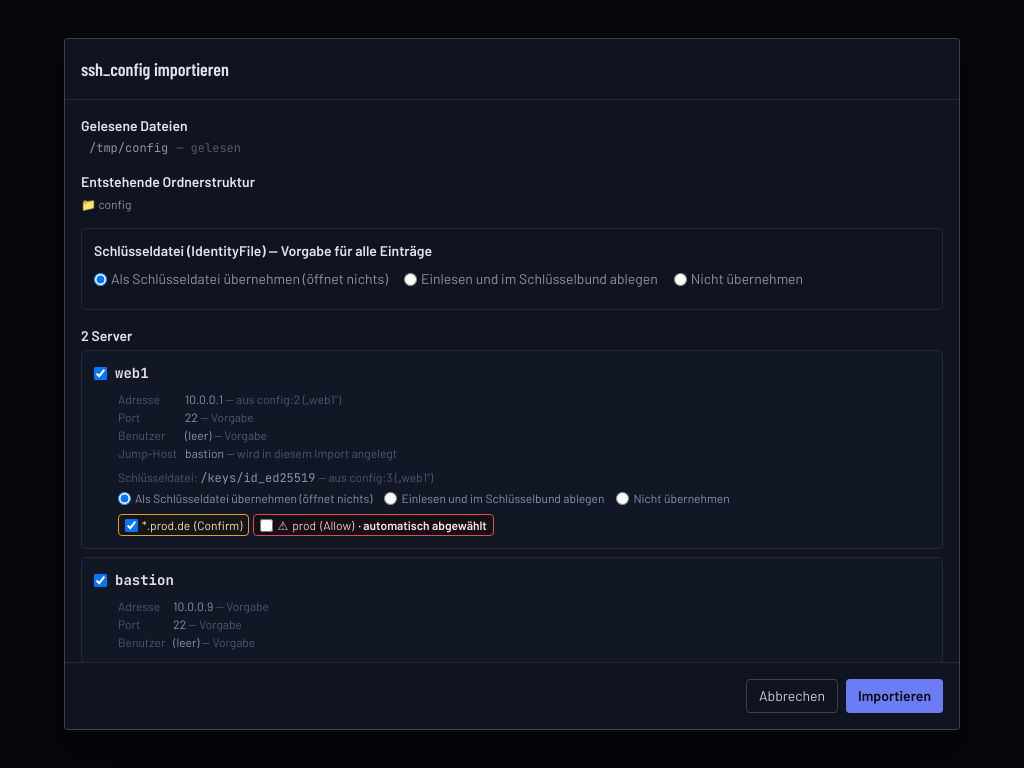
SshConfigImportDialog (Spec 0075, §3.1.7) › recomputes the 'will open' file list when the identity mode changes — not a static list
Expected: the text "web1" is shown, [115,363,149,383]
Expected: the text "würden beim Bestätigen gelesen" is not shown
Click the 1st radio button labelled "Einlesen und im Schlüsselbund ablegen". click: (410, 279)
box: [404,273,417,286]
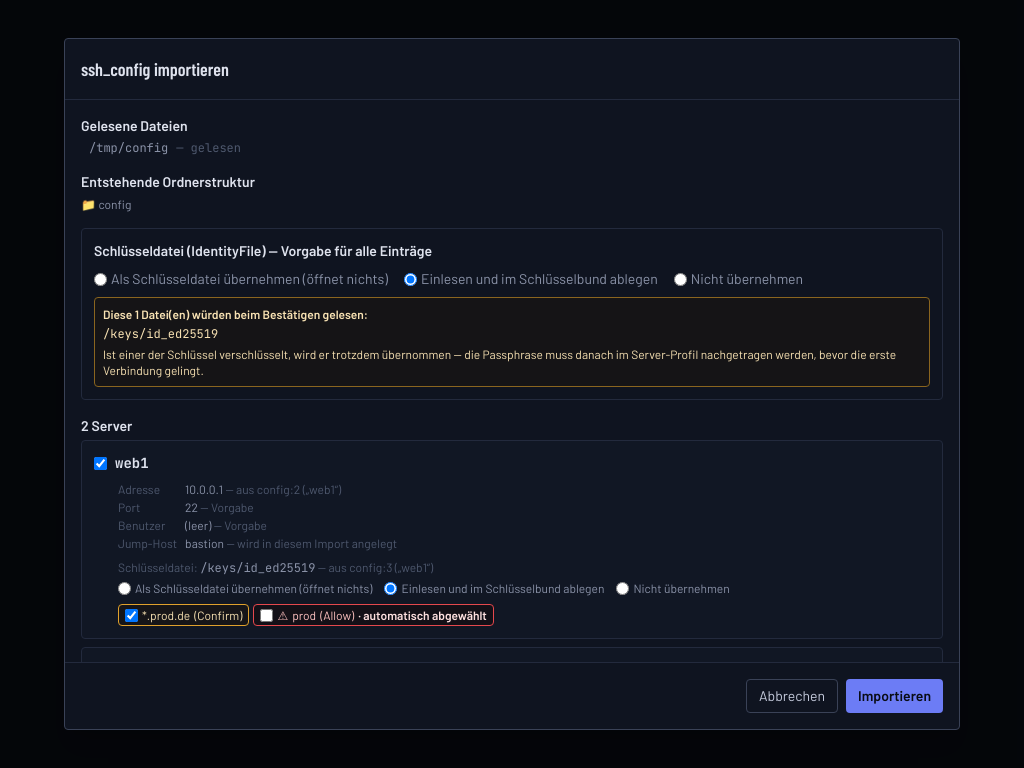
Expected: the text "würden beim Bestätigen gelesen" shows "/keys/id_ed25519", [103,326,218,342]
